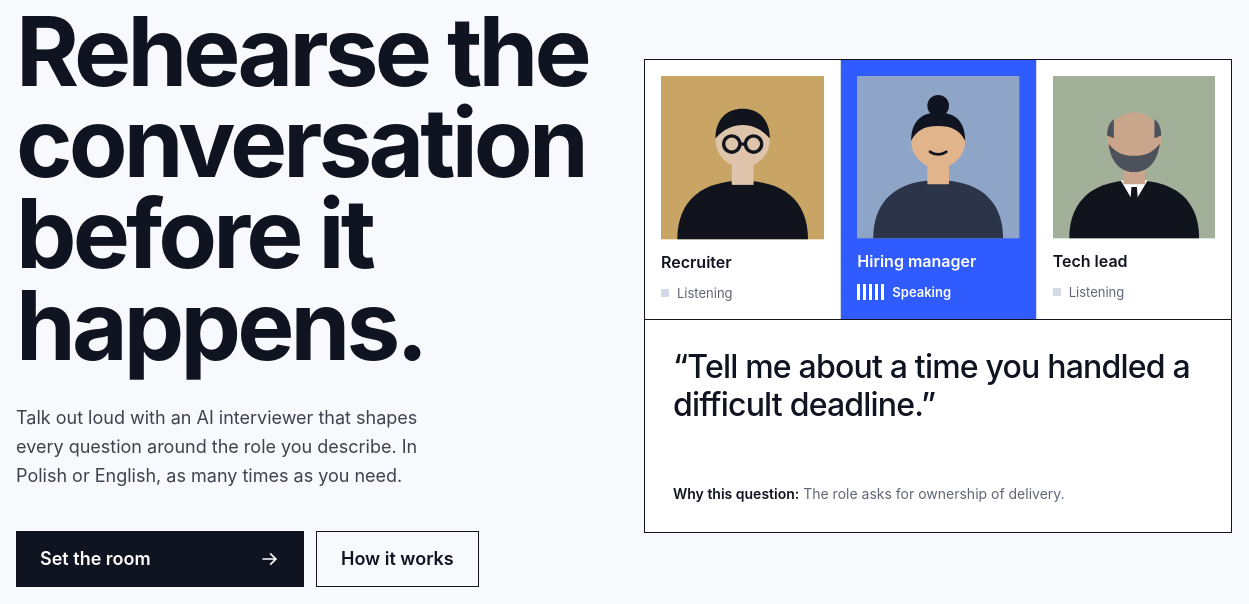
Test case: lets the visitor pick who speaks in the room
Click the button with aria-label "Hear the tech lead". click: coordinates (1133, 190)
box: [1036,60,1231,319]
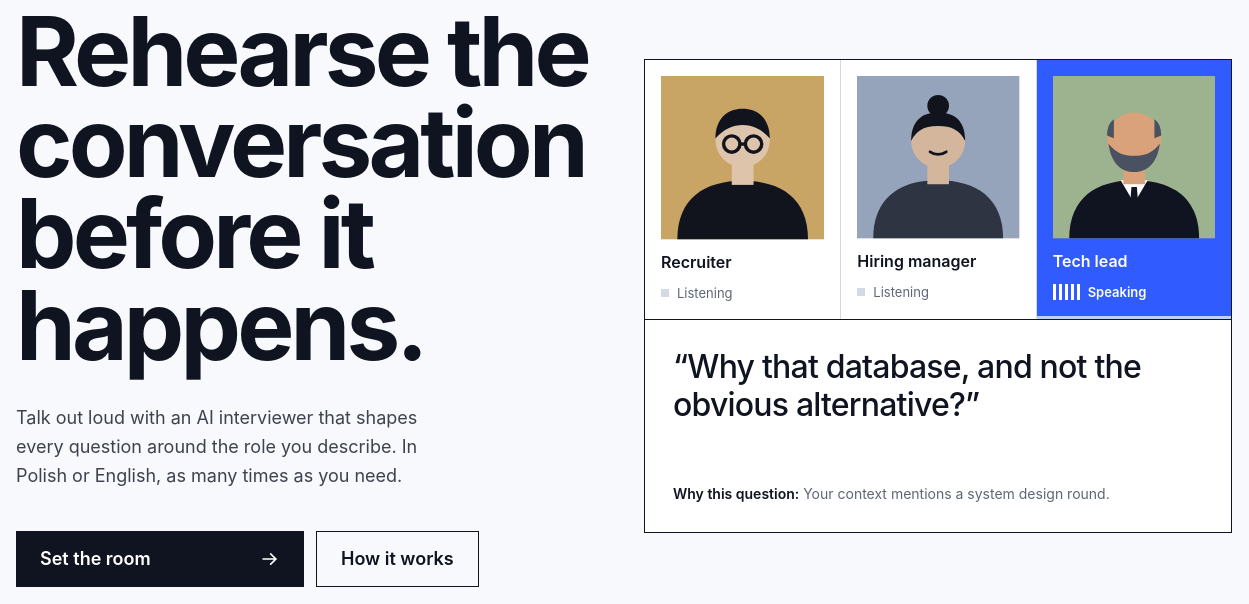
Now the text "“Why that database, and not the obvious alternative?”" is shown, box [673,348,1203,463]
